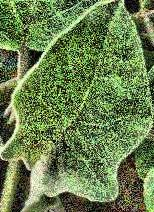HEALTHY: (1, 1, 154, 212)
